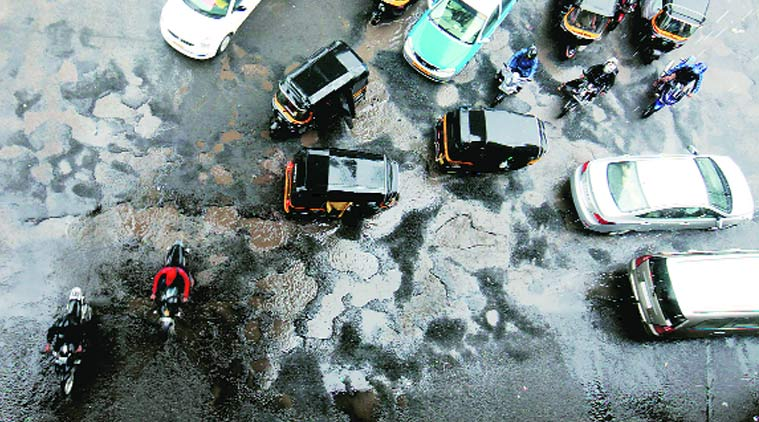pothole: (241, 269, 333, 369), (14, 27, 88, 101), (20, 128, 85, 189), (186, 188, 250, 248), (423, 209, 498, 249), (356, 295, 394, 361), (241, 220, 310, 251), (342, 246, 385, 283)
